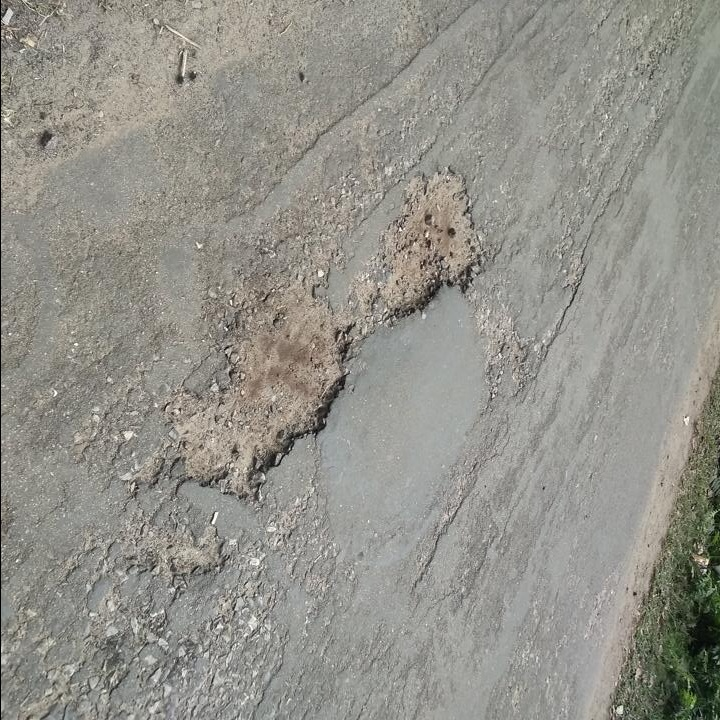pothole: (174, 268, 354, 497), (368, 157, 491, 330), (162, 522, 223, 580)
